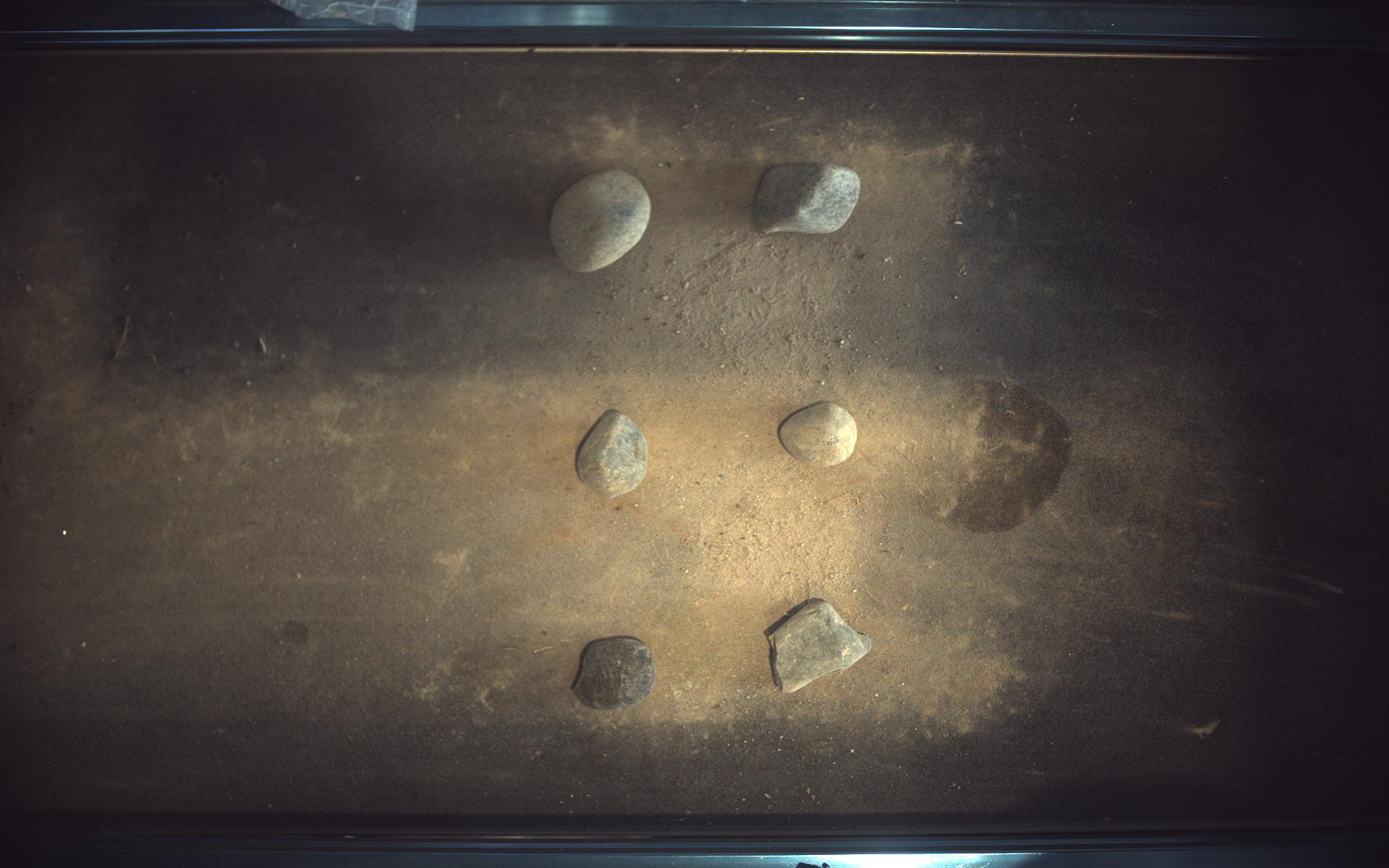stone: (551, 169, 652, 272), (766, 598, 873, 694), (755, 161, 862, 233), (576, 409, 648, 499), (572, 637, 657, 711), (780, 401, 859, 467)
